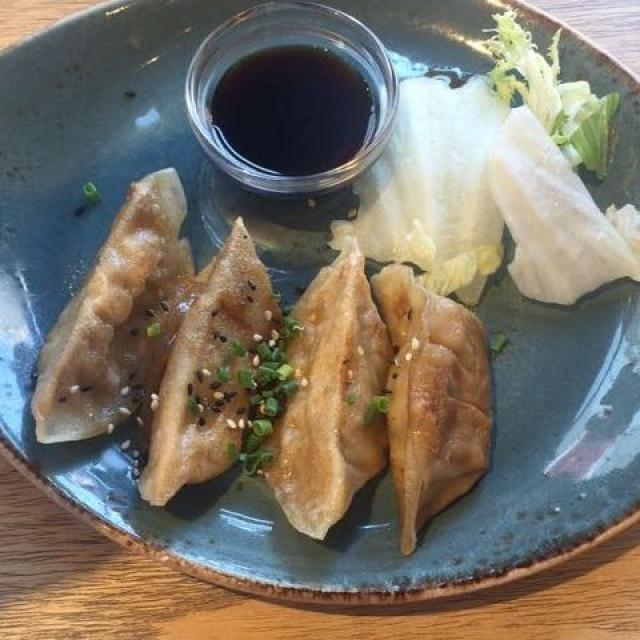dumplings: (5, 171, 511, 542)
salad: (351, 43, 610, 354)
sauce: (210, 47, 371, 170)
